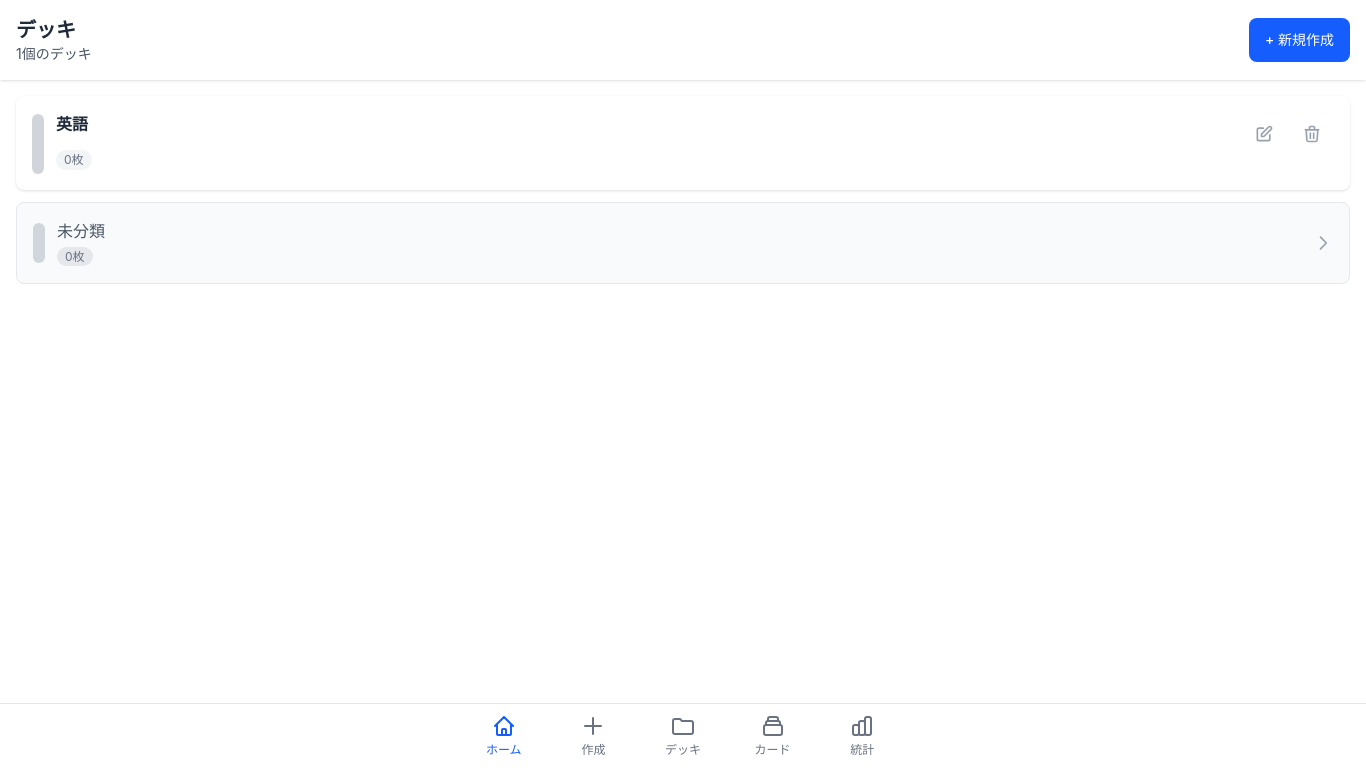
Test: DecksPage › デッキ操作 › 削除ボタンクリックで確認ダイアログが表示される
Click the button named "英語を削除" at (1312, 134), box [1290,112,1334,156]
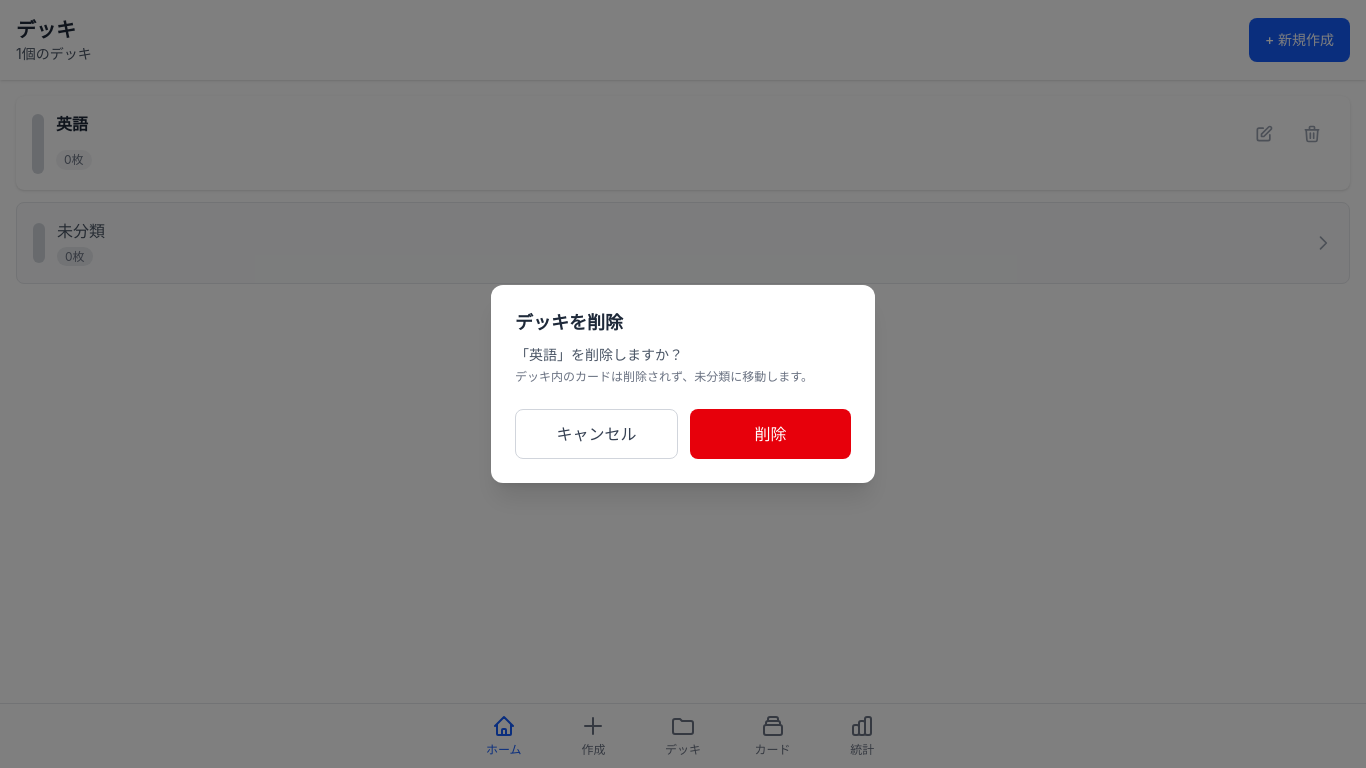
Expected: the text "「英語」を削除しますか？" is shown, [515,346,683,363]
